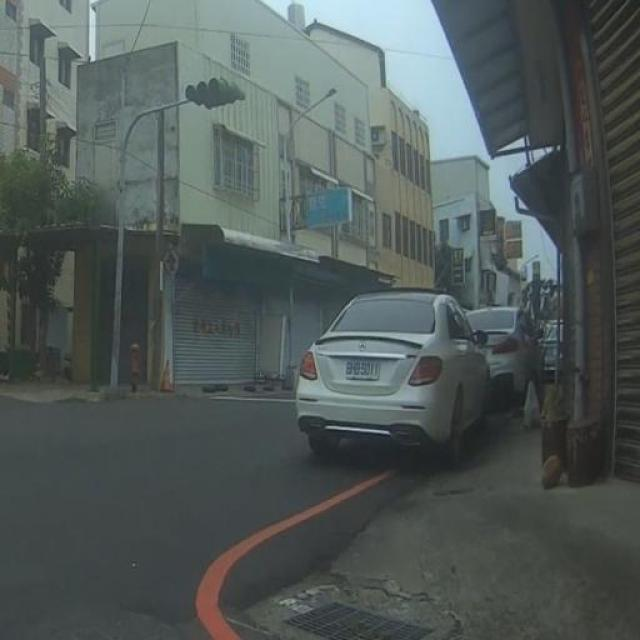illegalparking: (296, 288, 542, 458)
